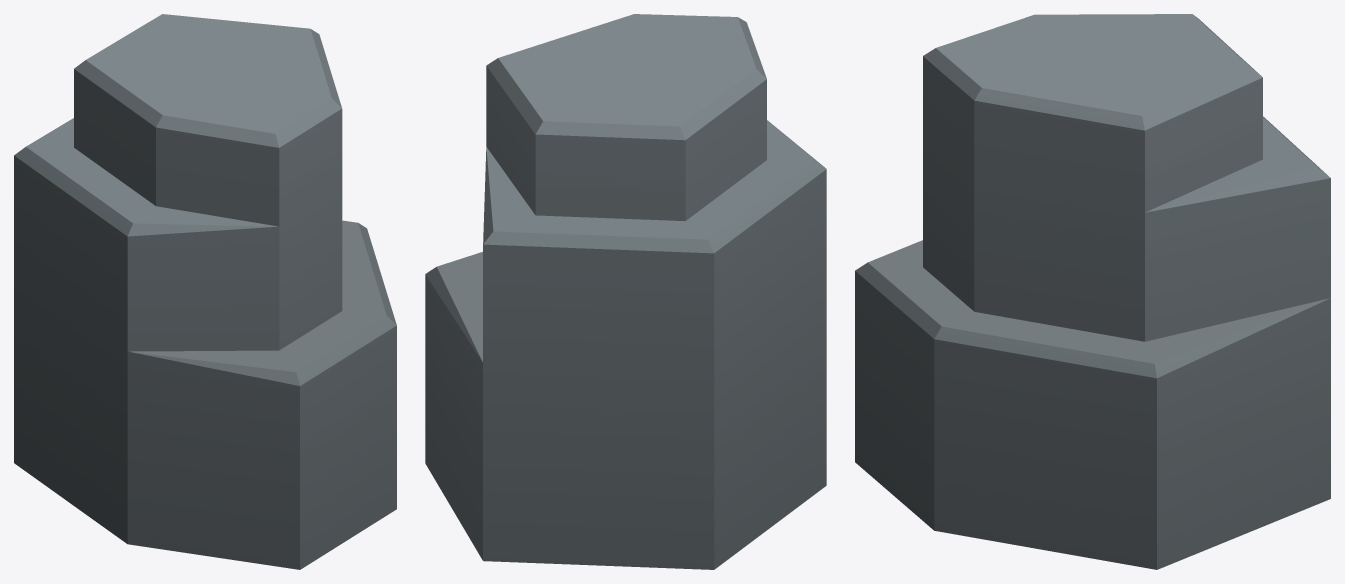
File: kf_rock_1_d.fbx
The picture shows the model from 3 angles, left to right: view 1: azimuth 30°, elevation 25°; view 2: azimuth 150°, elevation 25°; view 3: azimuth 270°, elevation 25°; orthographic projection. The views are drawn at different scales.
Parts seen in each view (by area): view 1: kf_rock_1_d; view 2: kf_rock_1_d; view 3: kf_rock_1_d.
Boxes of the visible parts, x1,y1,x2,y2 form: kf_rock_1_d: (14,14,396,569); kf_rock_1_d: (425,14,826,569); kf_rock_1_d: (855,14,1330,569).
Bounding box in the file's own units: 2.22 × 2.71 × 2.78.
Materials: 1 (1 with a texture image).
